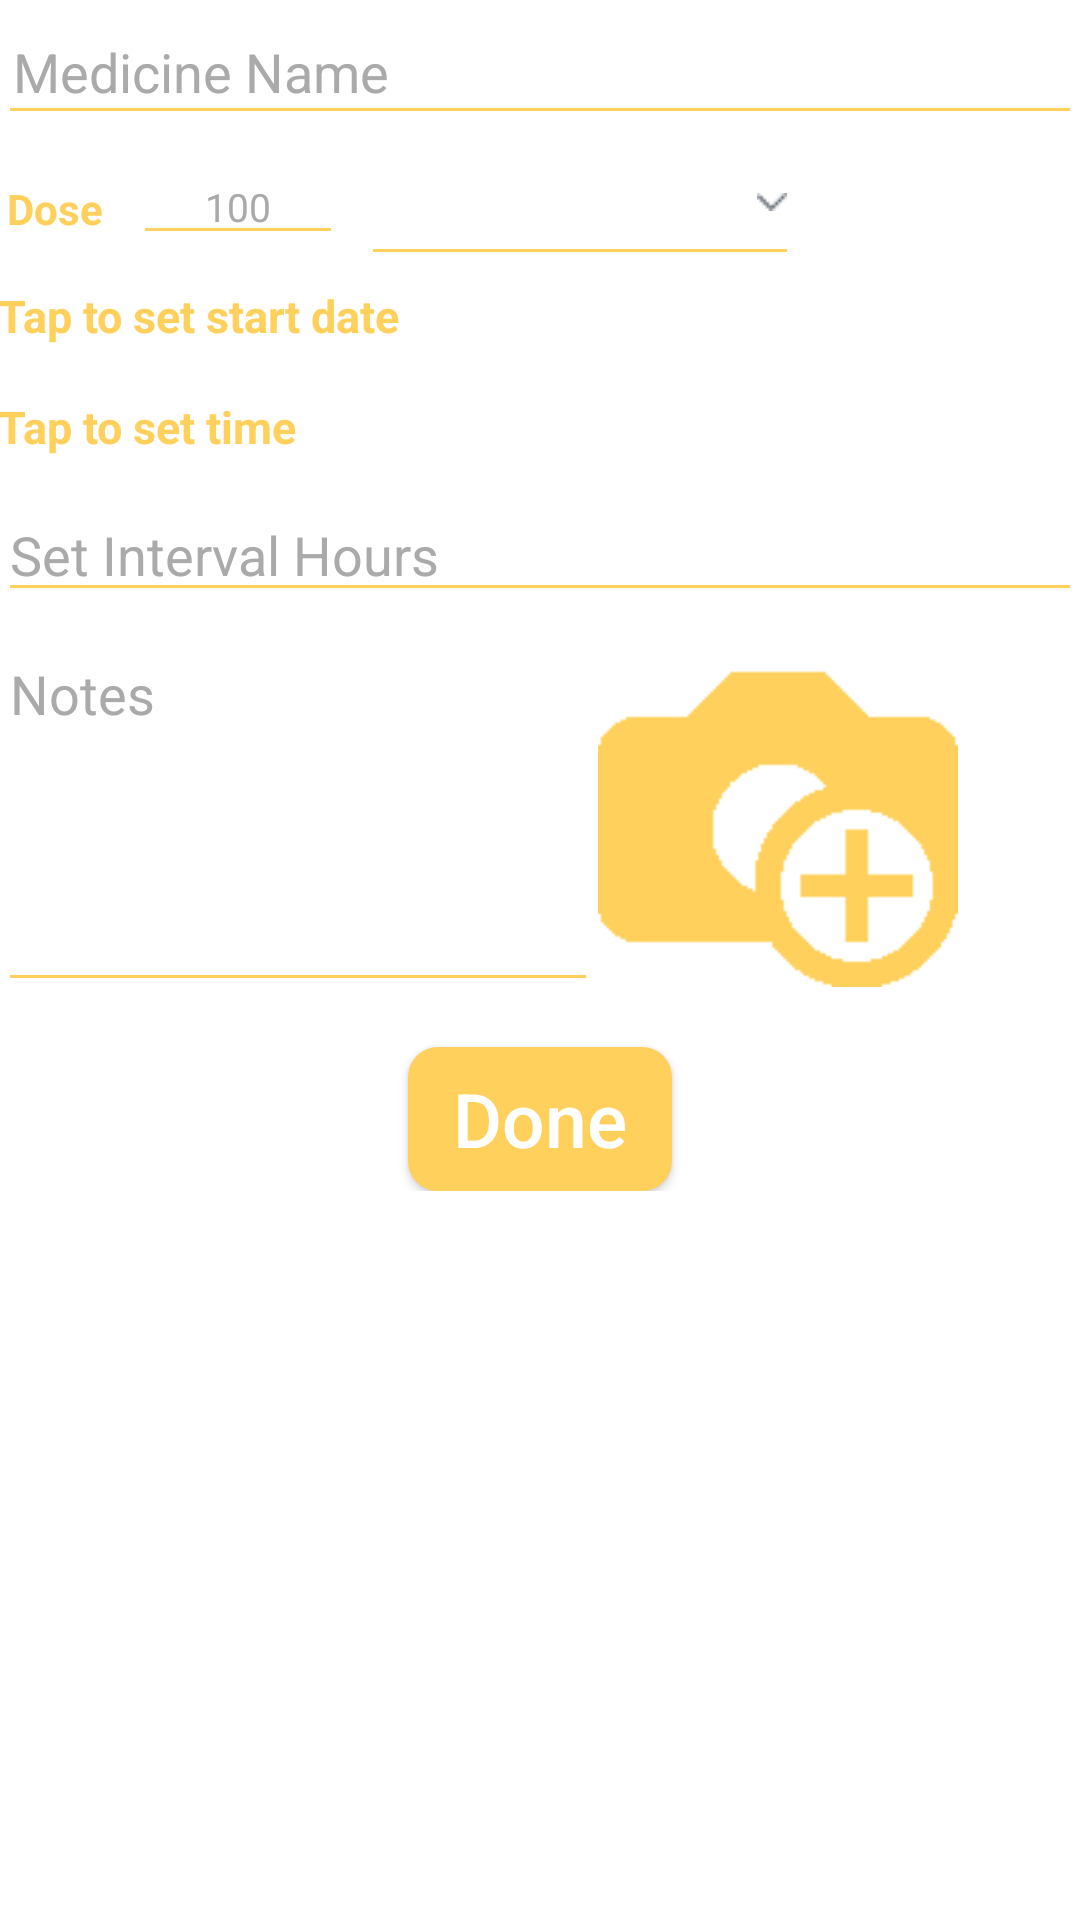

Icon bounding boxes for this 1080×1920 phone screenshot, format bbox=(x1, y1, x2, y2):
add: bbox=(598, 671, 958, 987)
